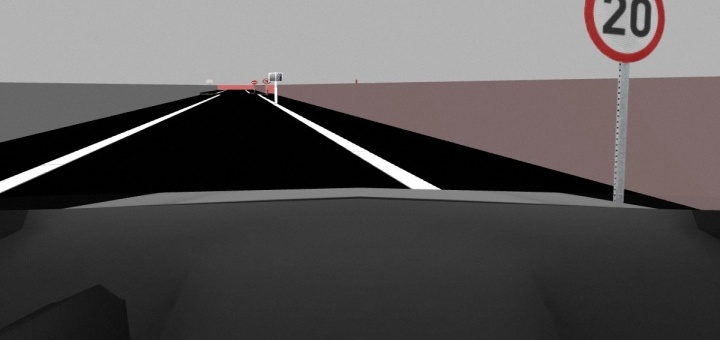hiz_20: (583, 1, 669, 63)
